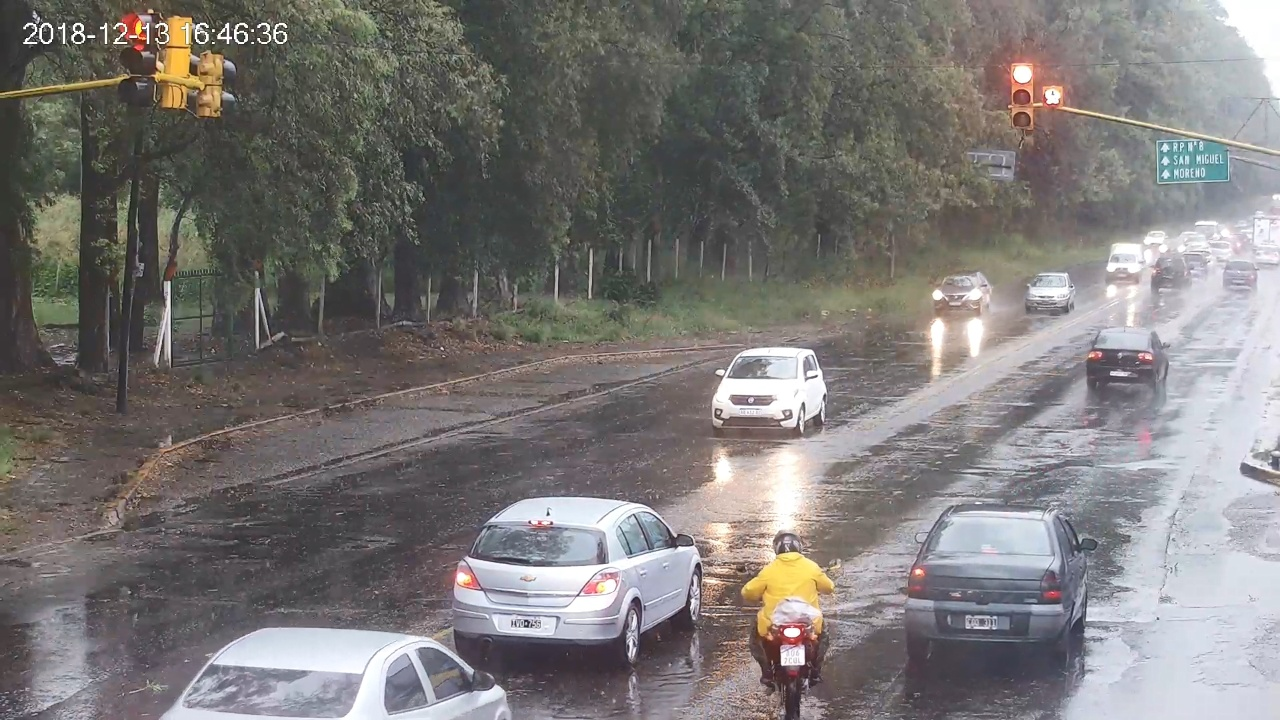car: (453, 496, 702, 664), (154, 627, 509, 720), (905, 503, 1097, 667), (1087, 327, 1171, 392)
front car: (712, 348, 827, 433)
motorcycle: (736, 557, 842, 720)
traffic light: (1011, 64, 1033, 130)
